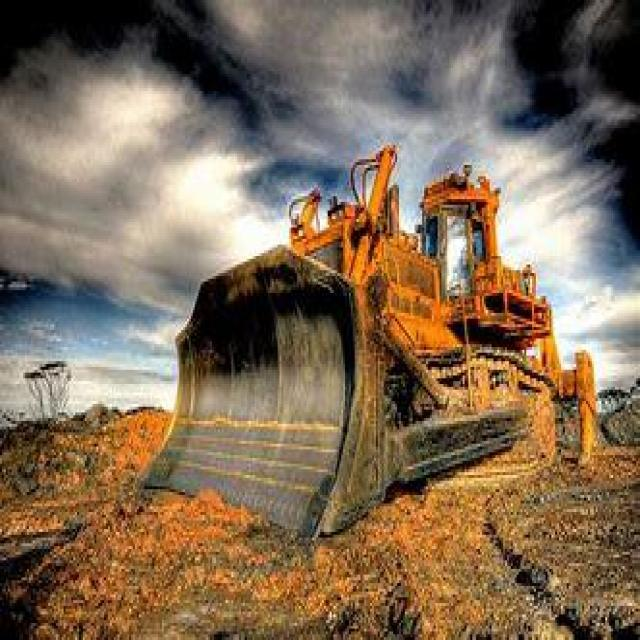Bulldozer: (129, 120, 609, 546)
